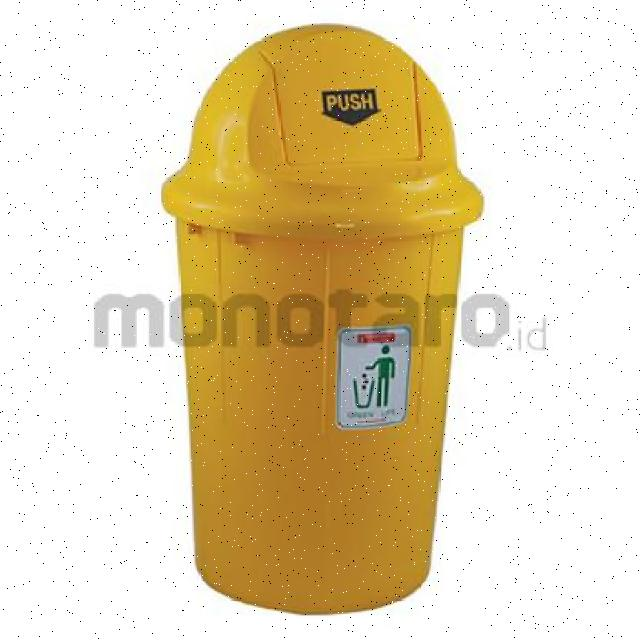garbage container: (132, 11, 500, 634)
